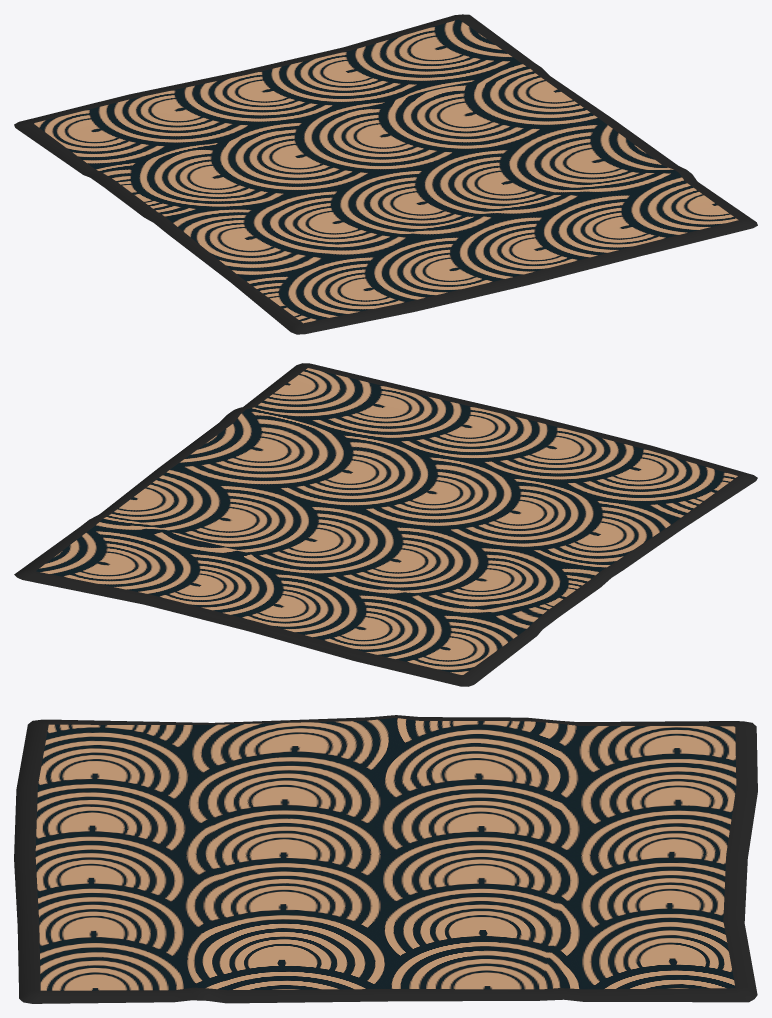
File: carpet_007.fbx
3 renders of one model, top to bottom at view 1: azimuth 30°, elevation 25°; view 2: azimuth 150°, elevation 25°; view 3: azimuth 270°, elevation 25°, orthographic. The views are drawn at different scales.
Parts seen in each view (by area): view 1: carpet_007; view 2: carpet_007; view 3: carpet_007.
Part boxes in pixels (<box>): carpet_007: <box>14,14,757,334</box>; carpet_007: <box>14,363,757,686</box>; carpet_007: <box>14,715,757,1003</box>.
Size of the model in its own units: 327 by 362 by 5.98.
